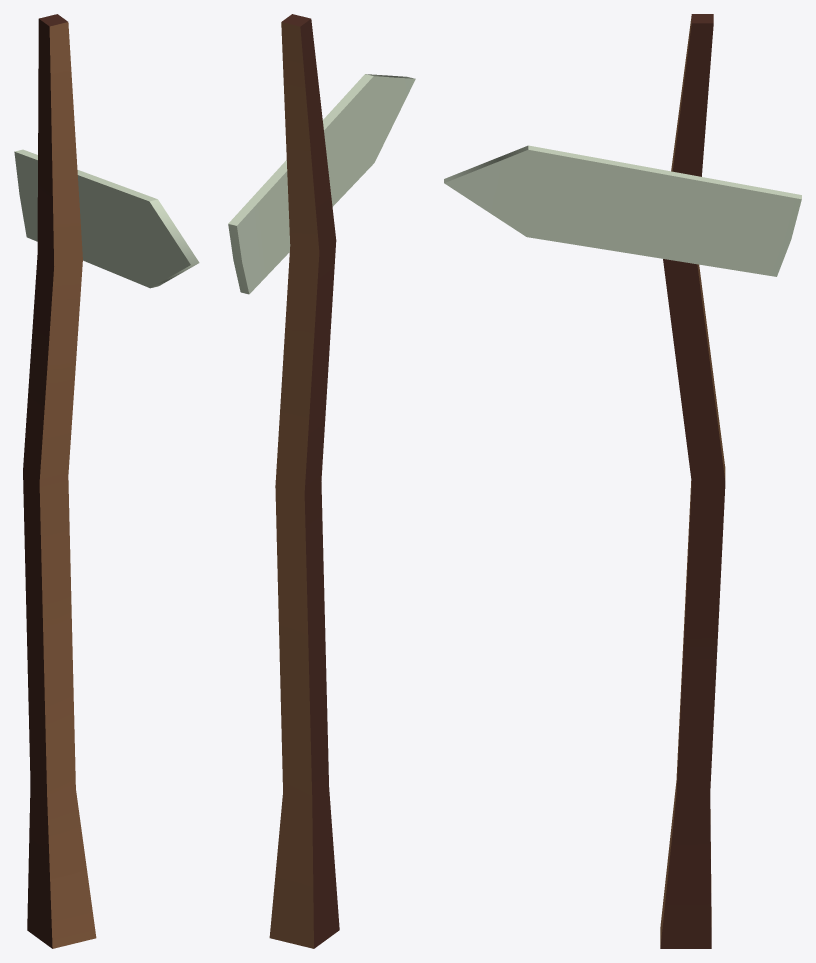
Rendered from SM_signal.fbx.
The picture shows the model from 3 angles, left to right: view 1: azimuth 30°, elevation 25°; view 2: azimuth 150°, elevation 25°; view 3: azimuth 270°, elevation 25°; orthographic projection.
Visible parts, largest first — view 1: SM_signal; view 2: SM_signal; view 3: SM_signal.
Part boxes in pixels (left/top/right/bottom): SM_signal: left=14, top=14, right=199, bottom=948; SM_signal: left=228, top=14, right=415, bottom=948; SM_signal: left=444, top=14, right=801, bottom=948.
Bounding box in the file's own units: 0.1277 × 2.53 × 0.8906.
1 material, 1 textured.
